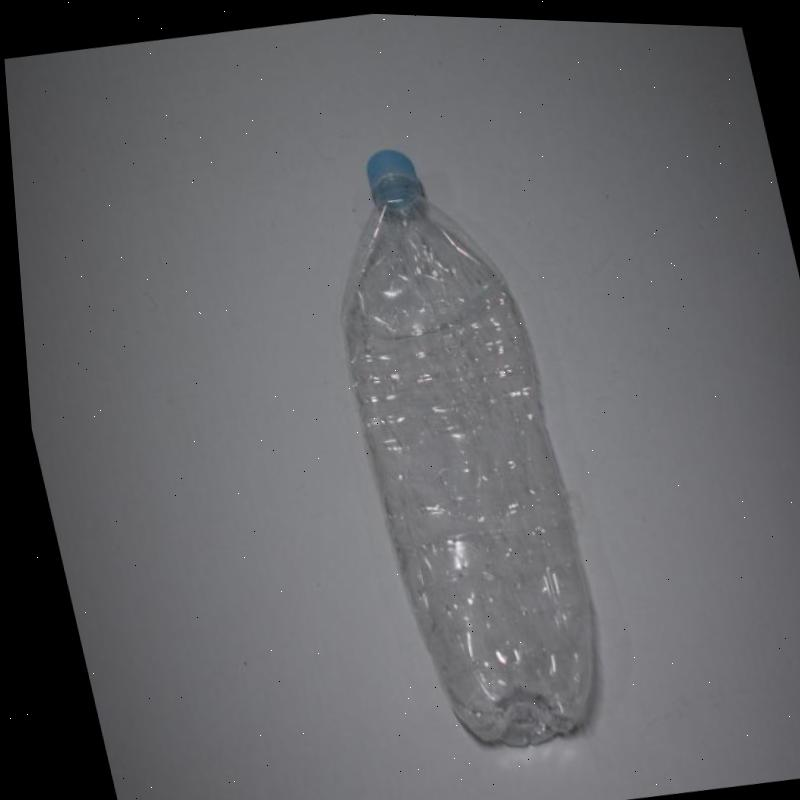botella: (293, 127, 616, 757)
